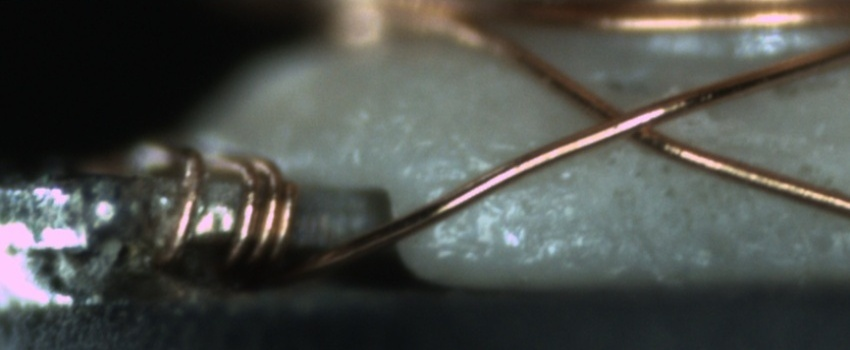CL: (565, 89, 693, 155)
DL: (439, 158, 569, 212)
TE: (137, 142, 311, 280)
